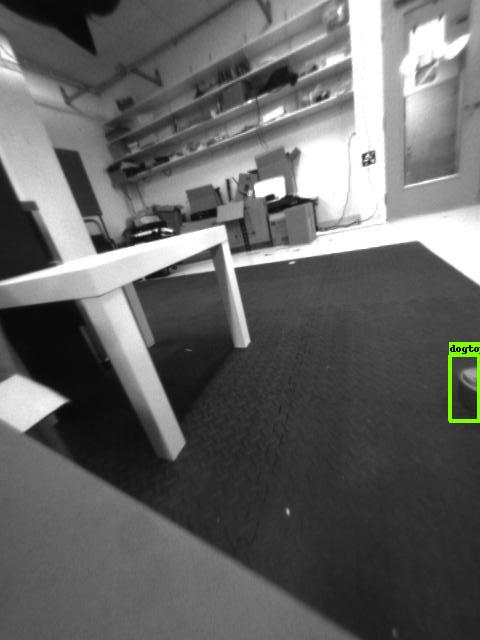dogtoy: (448, 357, 480, 407)
